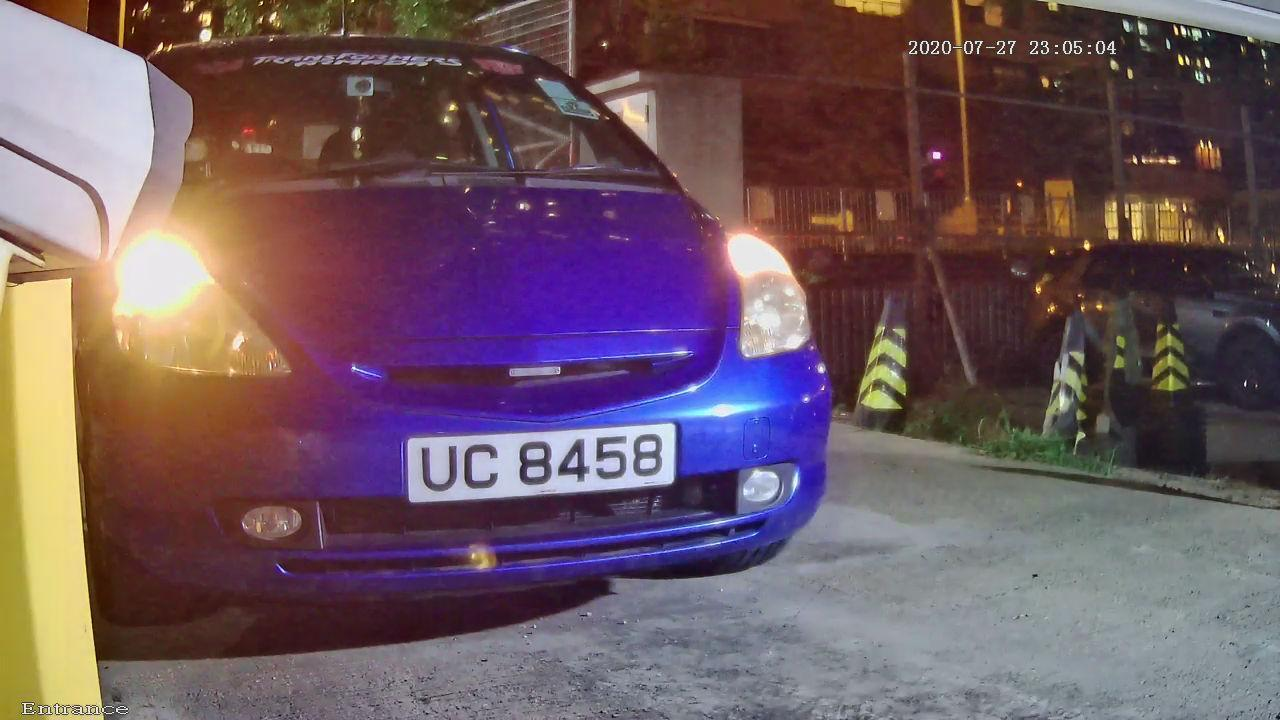privatecar: (1, 1, 949, 685)
